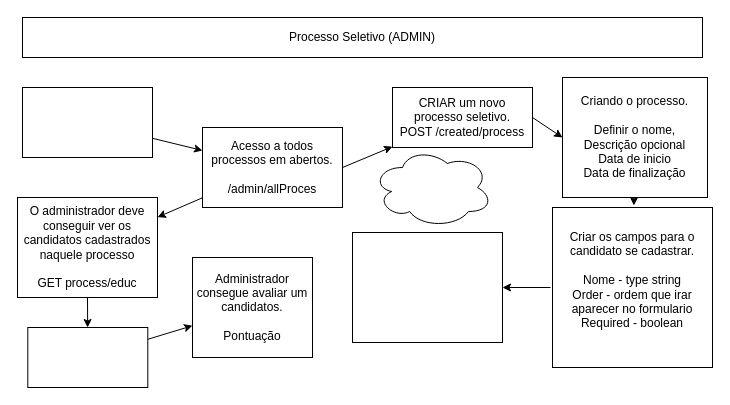
Image size: 730x405. Some labels were removed from this diagram. Each missing label, with the box of its shape:
Com os campos automaticamente gera o formulario. campos.map(() => {}): (352, 232, 502, 342)
Consegue ver todas as informações cadastrados do candidato: (27, 326, 148, 388)
Entra no sistema. (email, senha) /admin/login: (22, 86, 152, 158)
